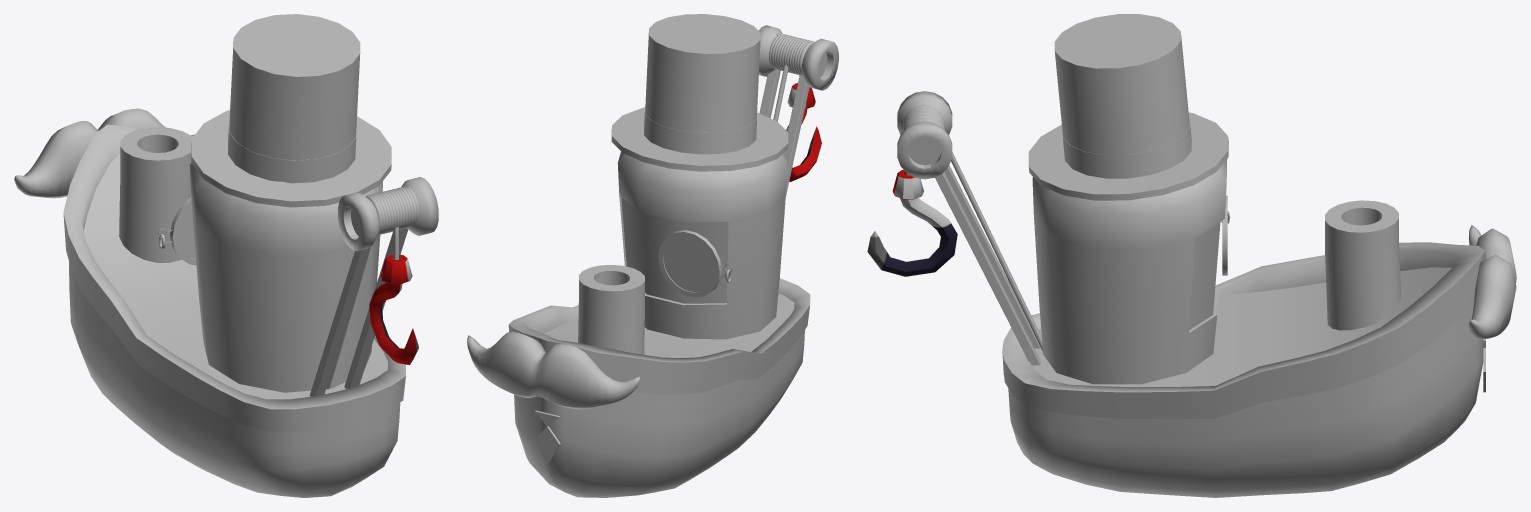
File: TashBoat.fbx
3 views of the same model, side by side, from view 1: azimuth 30°, elevation 25°; view 2: azimuth 150°, elevation 25°; view 3: azimuth 270°, elevation 25° (orthographic). The views are drawn at different scales.
Visible parts, largest first — view 1: TashyBoat; view 2: TashyBoat; view 3: TashyBoat.
Boxes of the visible parts, x1,y1,x2,y2 form: TashyBoat: (14, 14, 438, 497); TashyBoat: (467, 14, 838, 497); TashyBoat: (867, 14, 1516, 497).
Size of the model in its own units: 631 by 1248 by 1640.
